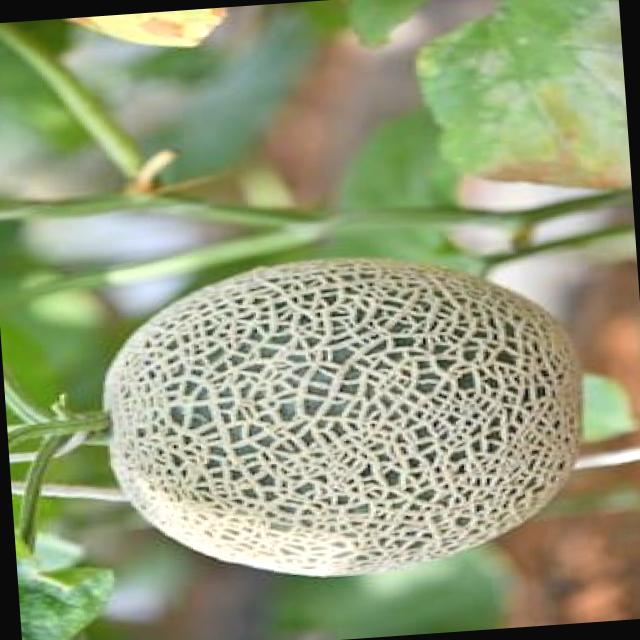cantaloupe: (92, 239, 590, 591)
